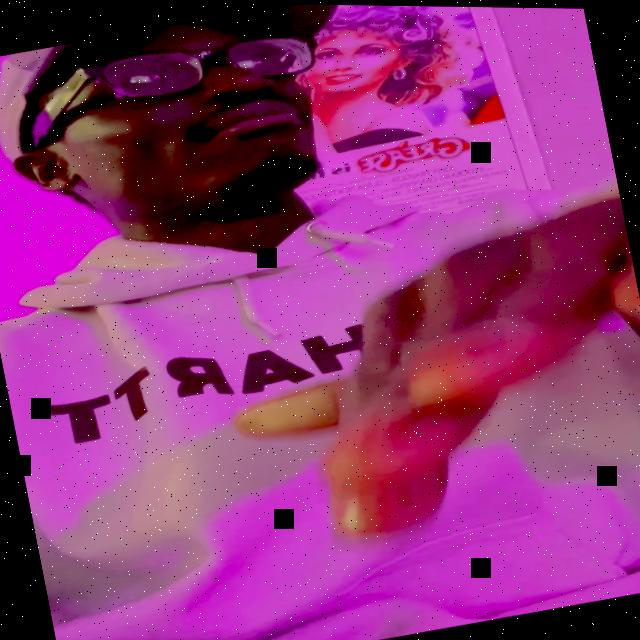Paper: (210, 188, 640, 567)
